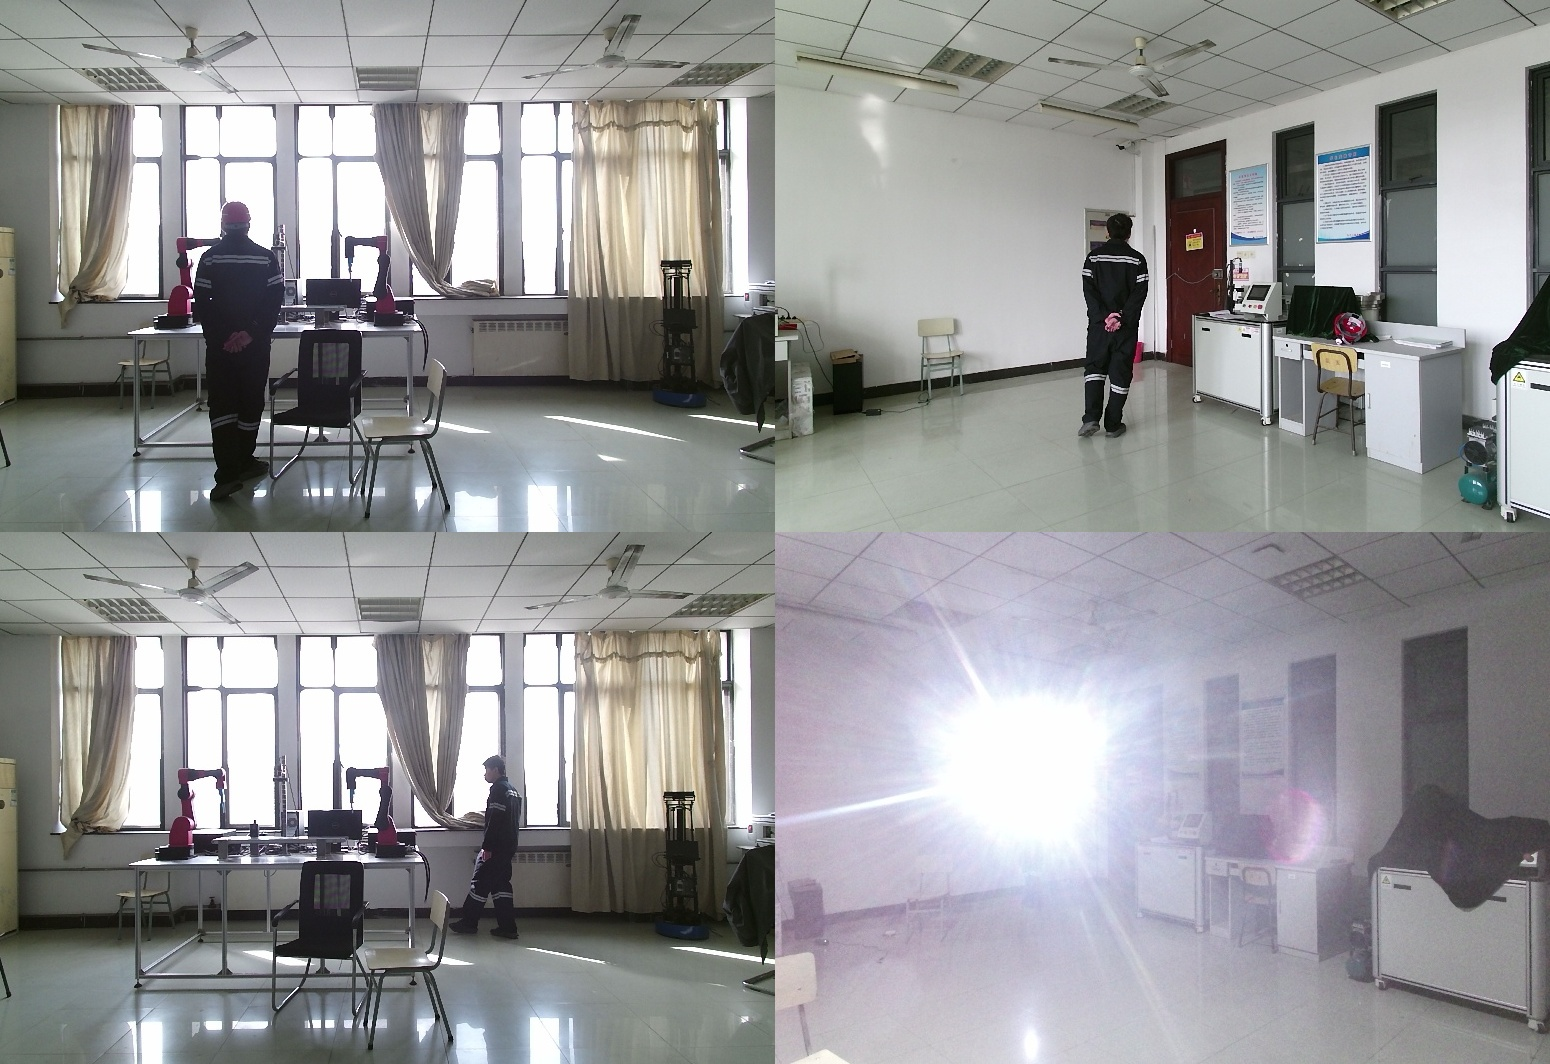person: (190, 202, 294, 498), (1074, 213, 1157, 440), (455, 758, 525, 943), (1006, 764, 1059, 907)
